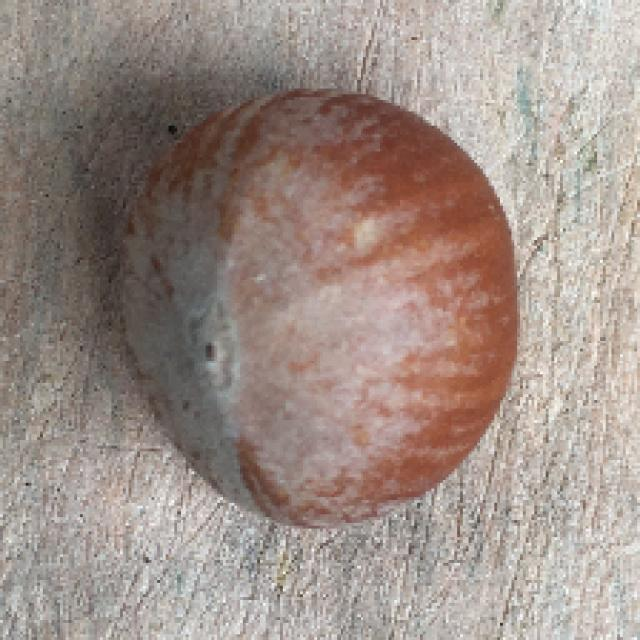qualityHazelnut: (113, 88, 522, 538)
